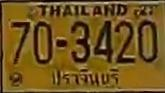0: (137, 19, 157, 62), (33, 20, 52, 63)
2: (114, 20, 134, 62)
3: (70, 20, 89, 62)
4: (93, 20, 112, 62)
7: (10, 20, 30, 63)
PRI: (49, 67, 120, 86)
